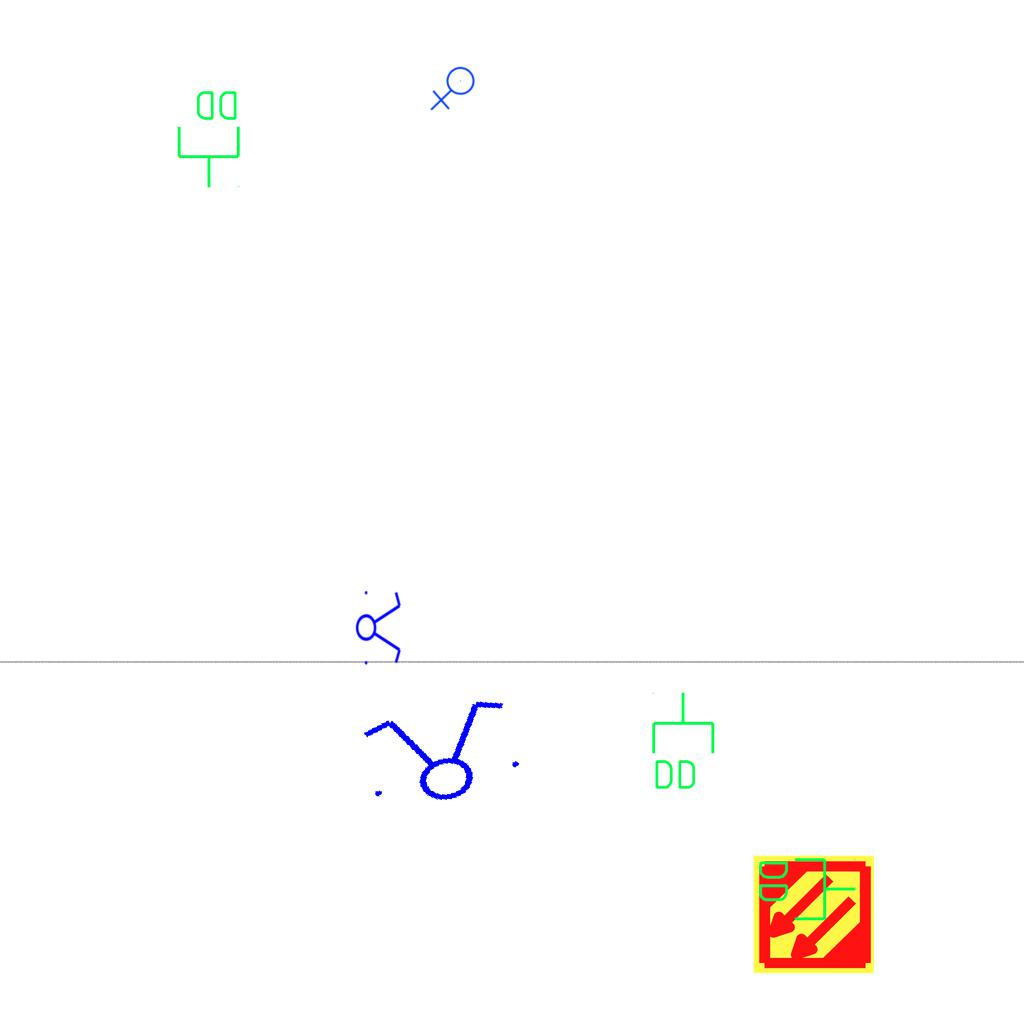ASR_Ansaugrauchmelder: (751, 852, 876, 977)
Datenanschluss_zweifach: (648, 690, 717, 793), (175, 87, 244, 190), (755, 854, 858, 923)
Elektroanschluss_allgemein_230V_Geraeteanschlussdose_230V: (430, 66, 479, 113)
Serienschalter: (347, 689, 533, 819), (355, 585, 403, 669)
